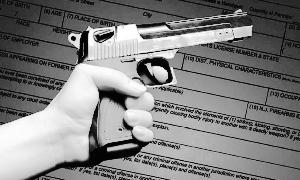handgun: (66, 5, 254, 167)
